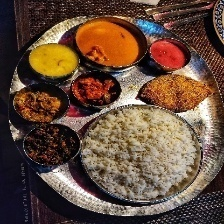dal: (29, 42, 79, 78)
